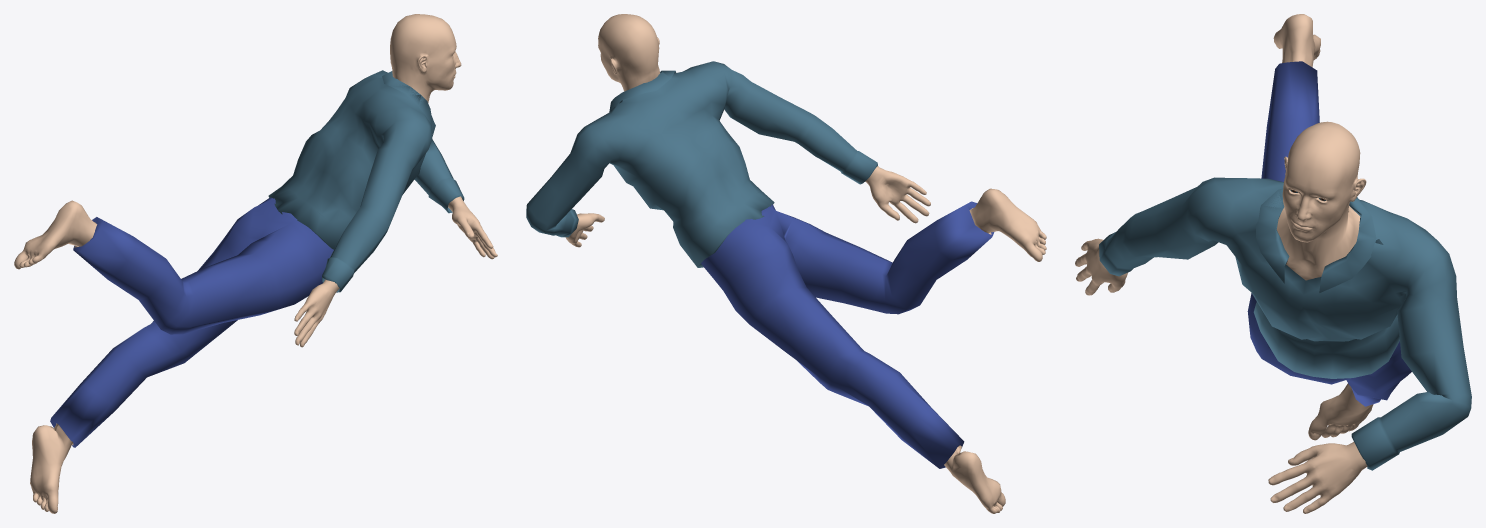
The model's file is float2_blue.dae.
3 renders of one model, left to right at view 1: azimuth 30°, elevation 25°; view 2: azimuth 150°, elevation 25°; view 3: azimuth 270°, elevation 25°, orthographic. The views are drawn at different scales.
Parts seen in each view (by area): view 1: human; view 2: human; view 3: human.
Boxes of the visible parts, box(x1,y1,x2,y2) form: human: box(14, 14, 497, 513); human: box(526, 14, 1046, 513); human: box(1075, 14, 1471, 513).
Size of the model in its own units: 1.54 by 0.8076 by 1.26.
